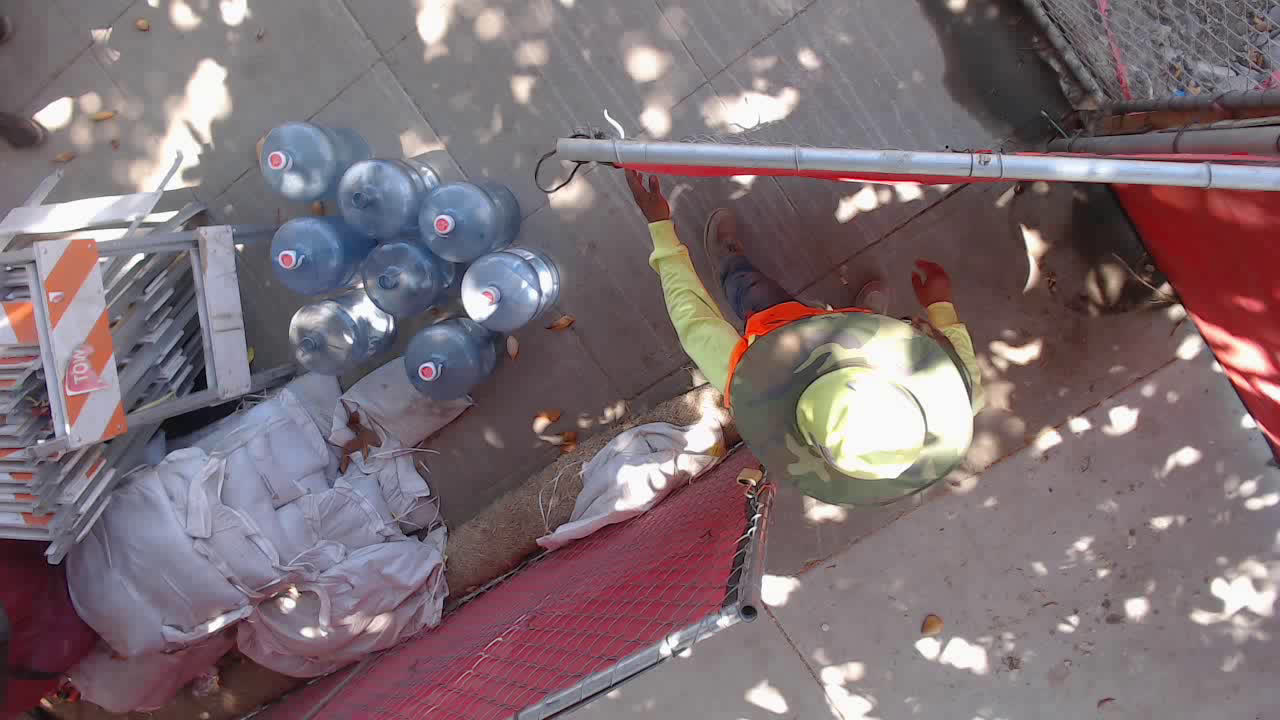hardhat: (785, 364, 922, 485)
